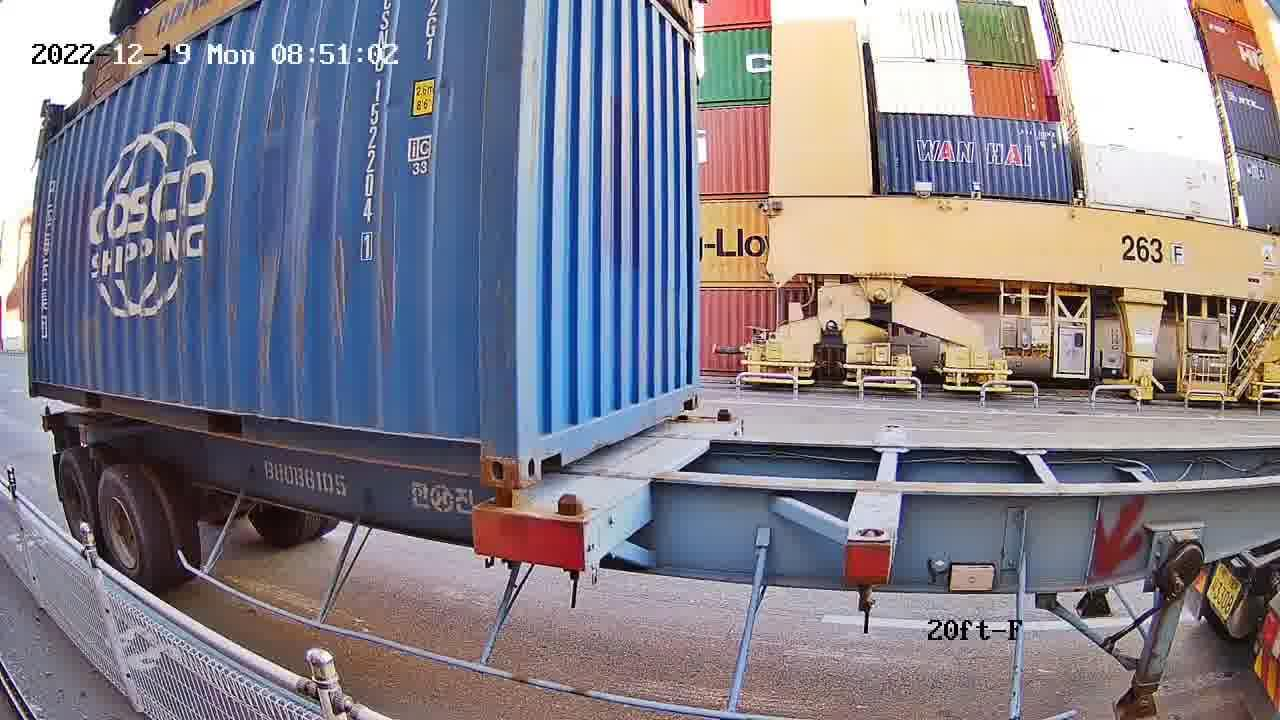Chassis: (544, 417, 740, 567)
Cone: (543, 493, 591, 571), (480, 489, 523, 561), (711, 408, 735, 425)
Hole_L: (518, 419, 566, 488)
Hole_R: (451, 422, 521, 488), (677, 367, 701, 412)
Tire: (97, 473, 151, 587), (56, 450, 97, 557)
